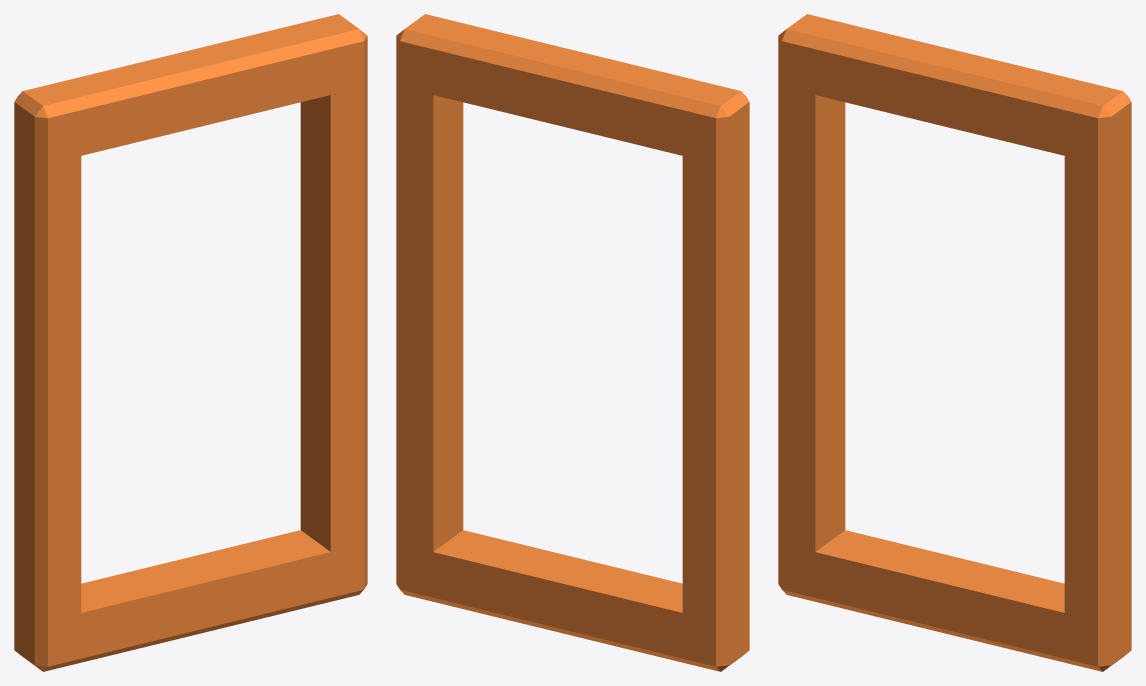
Rendered from rocker_switch_bezel.glb.
3 views of the same model, side by side, from view 1: azimuth 30°, elevation 25°; view 2: azimuth 150°, elevation 25°; view 3: azimuth 330°, elevation 25° (orthographic).
Visible parts, largest first — view 1: RockerBezel; view 2: RockerBezel; view 3: RockerBezel.
Boxes of the visible parts, x1,y1,x2,y2 form: RockerBezel: (14,14,367,671); RockerBezel: (396,14,749,671); RockerBezel: (778,14,1131,671).
Bounding box in the file's own units: 0.032 × 0.052 × 0.005.
